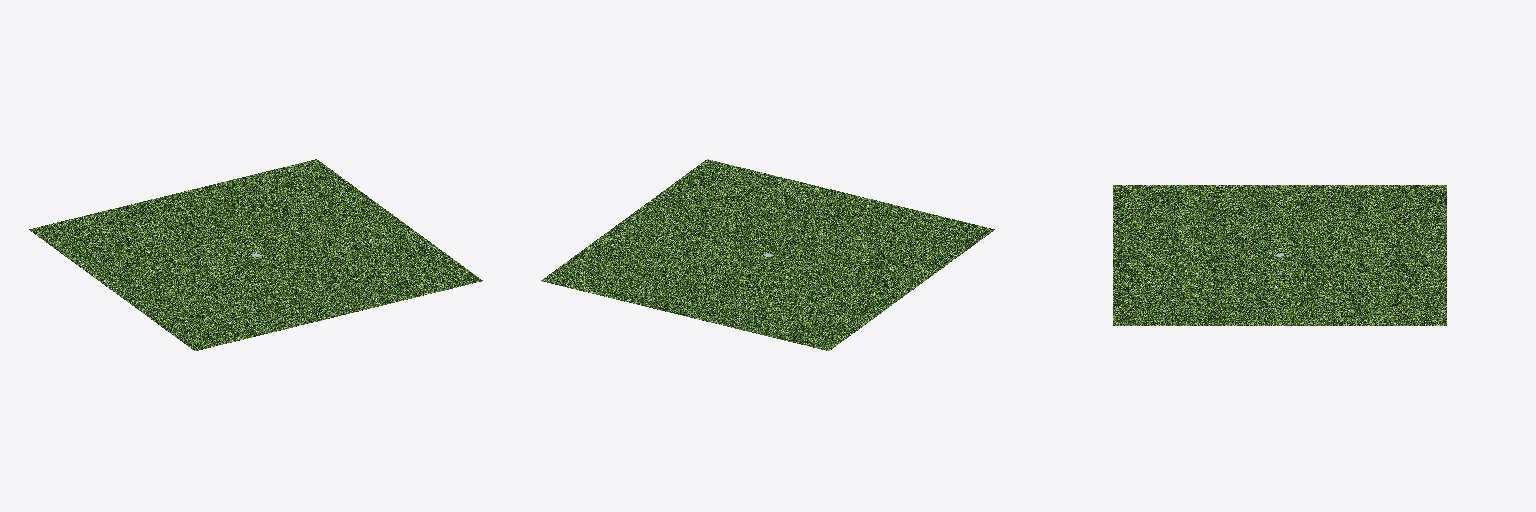
3 views of the same model, side by side, from view 1: azimuth 30°, elevation 25°; view 2: azimuth 150°, elevation 25°; view 3: azimuth 270°, elevation 25° (orthographic).
Parts seen in each view (by area): view 1: Plane02; view 2: Plane02; view 3: Plane02.
Part boxes in pixels (x1,y1,x2,y2): Plane02: (29,159,482,350); Plane02: (541,159,994,350); Plane02: (1113,185,1446,325).
Size of the model in its own units: 3976 by 31.29 by 3976.
Materials: 5 (1 with a texture image).